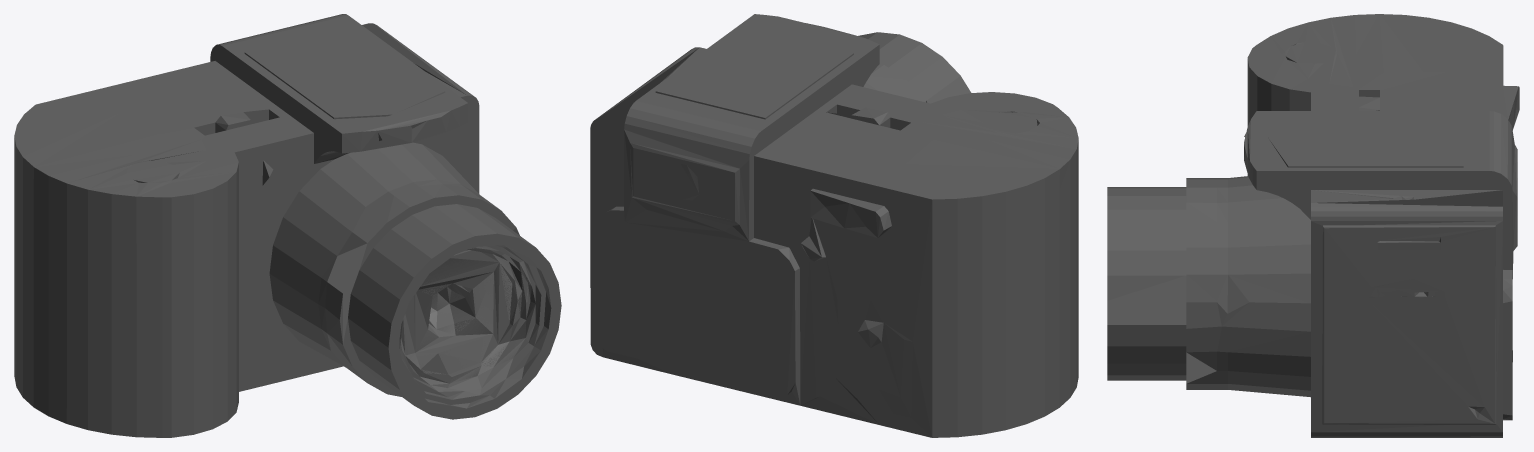
The model's file is model_align.obj.
3 renders of one model, left to right at view 1: azimuth 30°, elevation 25°; view 2: azimuth 150°, elevation 25°; view 3: azimuth 270°, elevation 25°, orthographic. The views are drawn at different scales.
Size of the model in its own units: 0.1992 by 0.117 by 0.1718.
